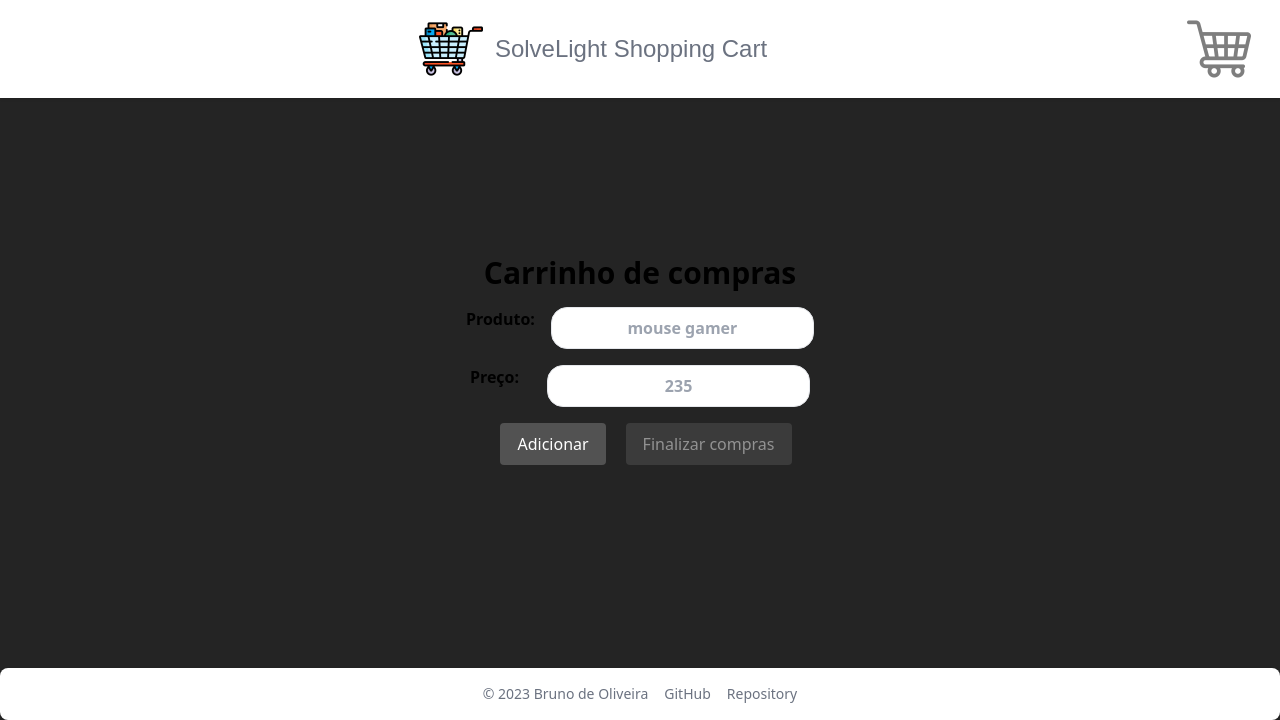
Scenario: Testando ShoppingCart › não é possível adicionar produto com valor negativo
Type "-1" into the field labelled "Preço:" at (679, 386), box [547, 365, 810, 407]
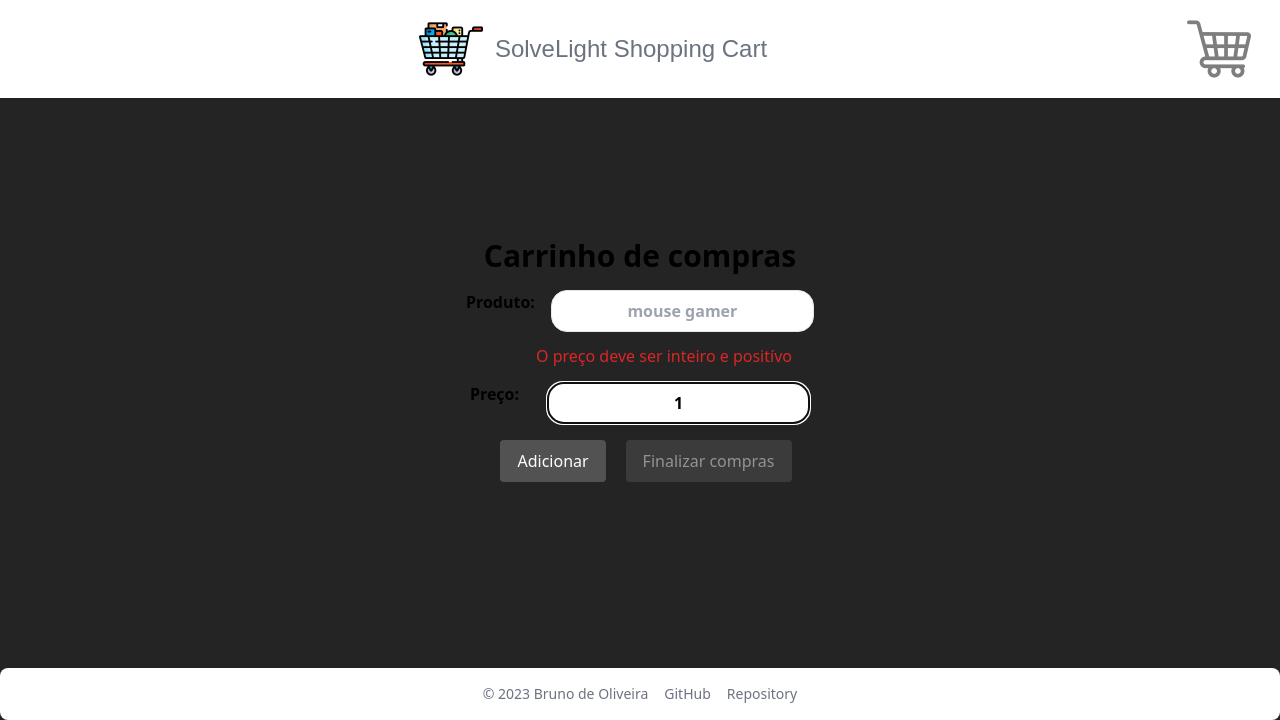
Check: the heading "O preço deve ser inteiro e positívo" is shown, box [514, 348, 814, 366]
